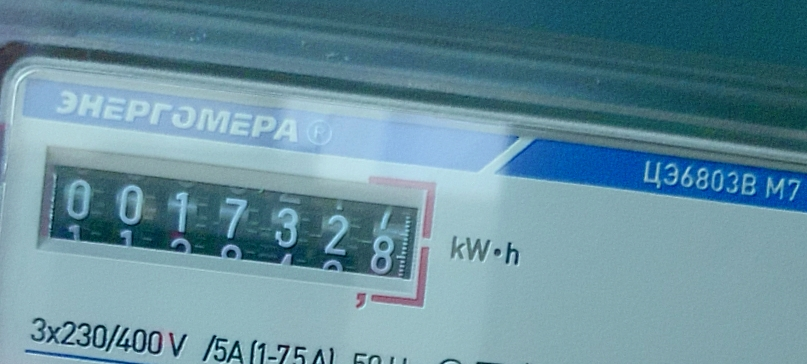0: (61, 175, 98, 223), (115, 179, 149, 228)
1: (168, 186, 195, 235)
2: (319, 210, 354, 258)
3: (271, 204, 303, 250)
7: (218, 194, 250, 243)
8: (367, 232, 397, 276)
screen: (24, 138, 446, 313)
